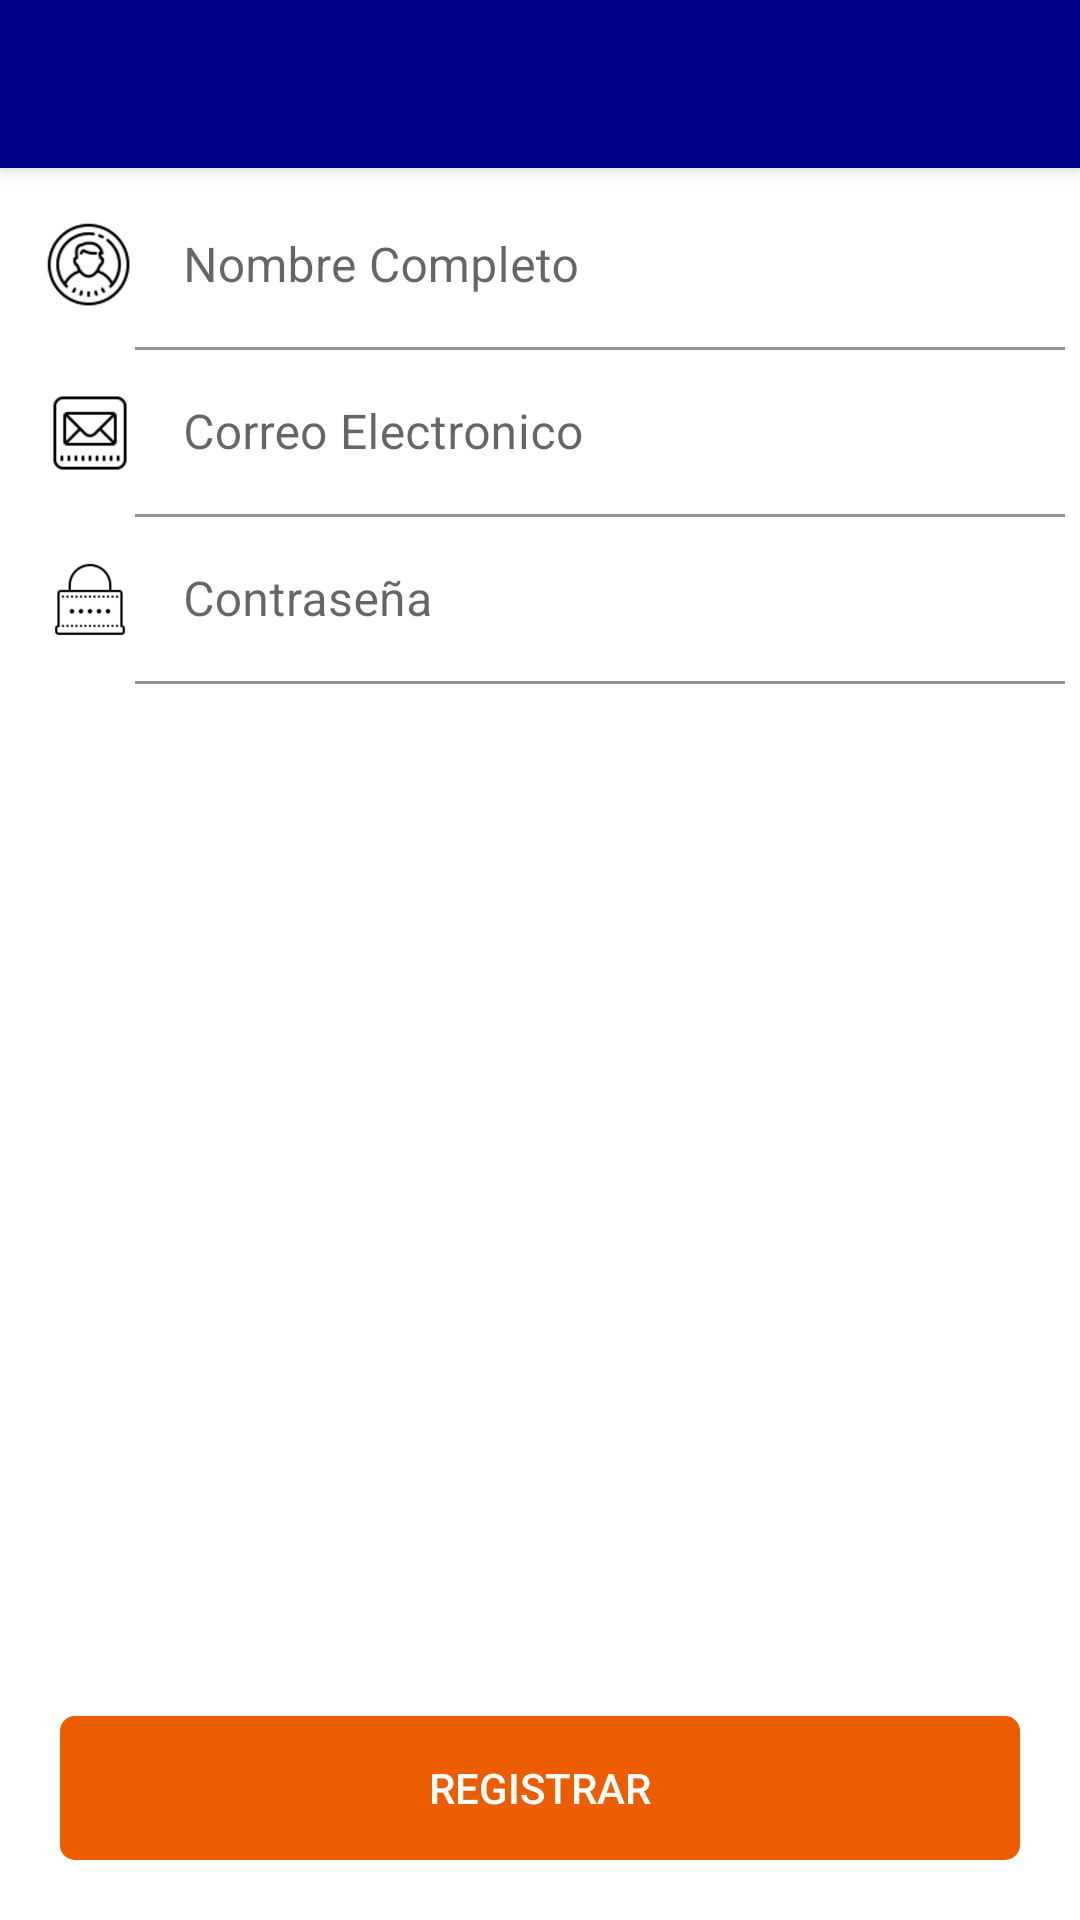

Where to tap for icons on this 1080 x 1920 app screen, as (x,y):
mail: (90,433)
password: (90,599)
user: (88,264)
